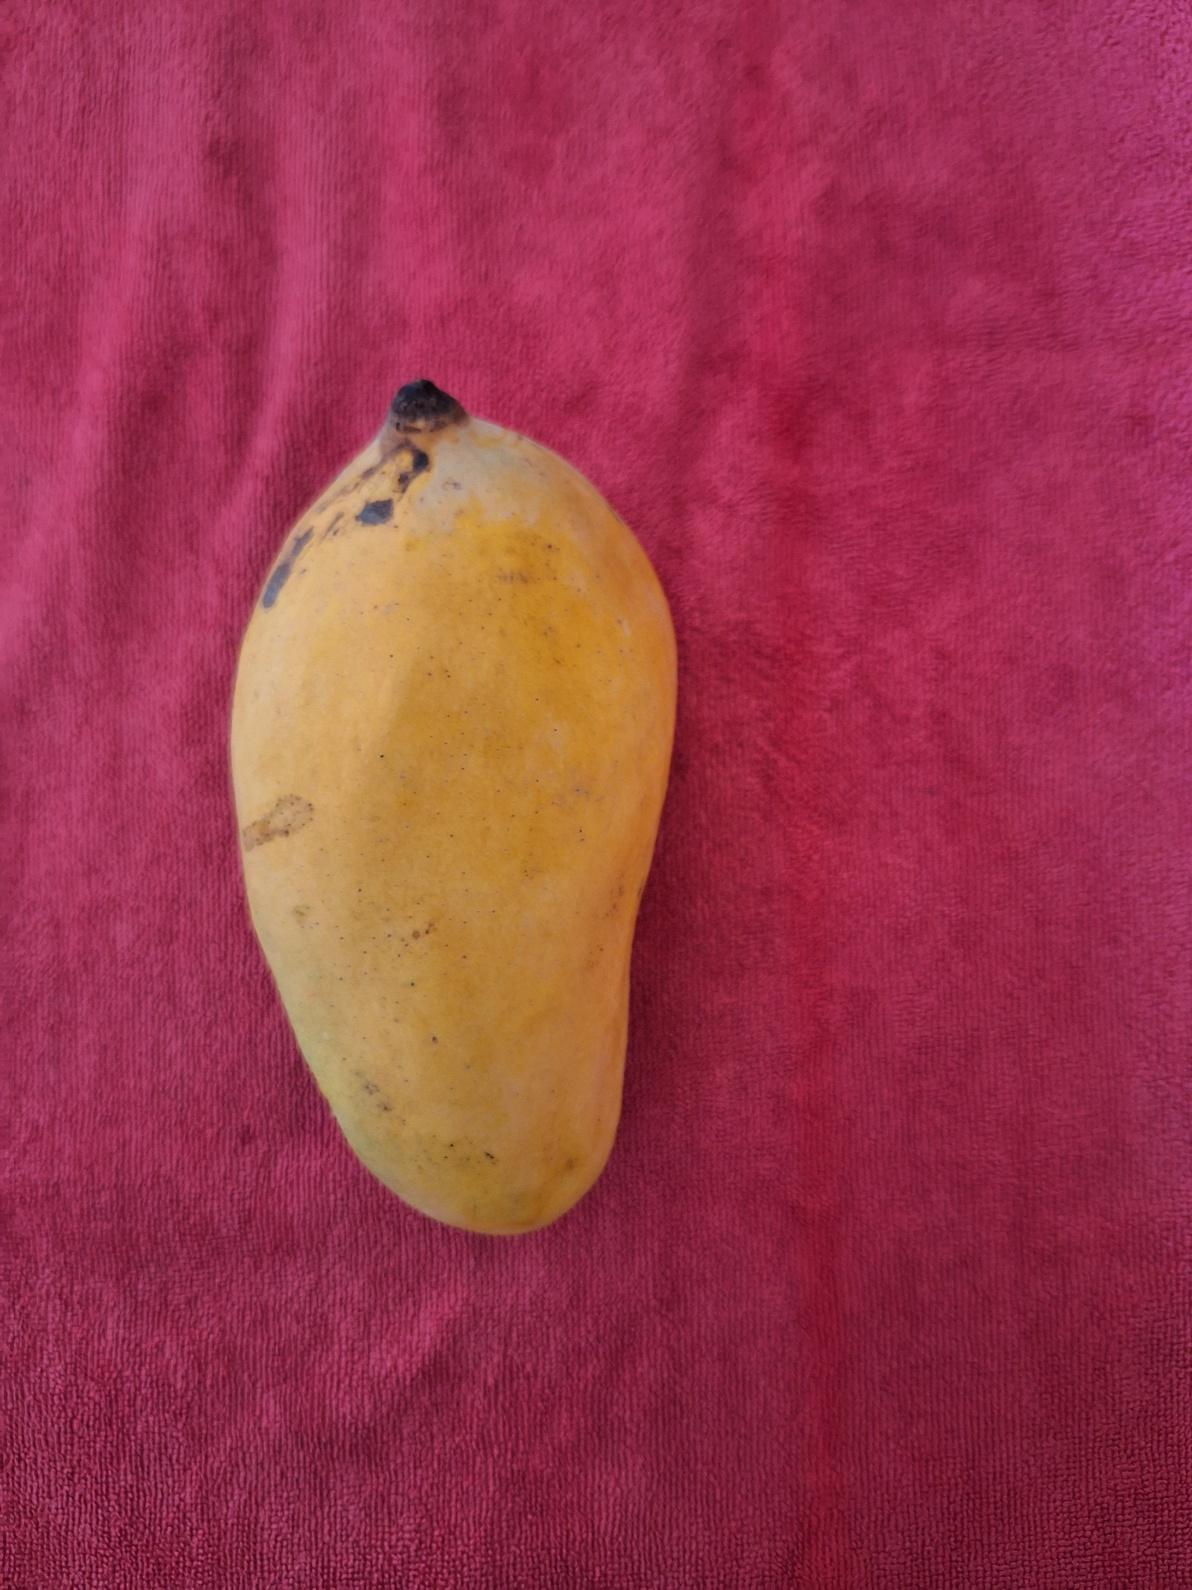mango: (225, 376, 679, 1236)
